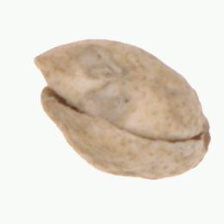L1: (32, 53, 69, 112), (195, 104, 212, 157)
L2: (34, 39, 211, 179)
